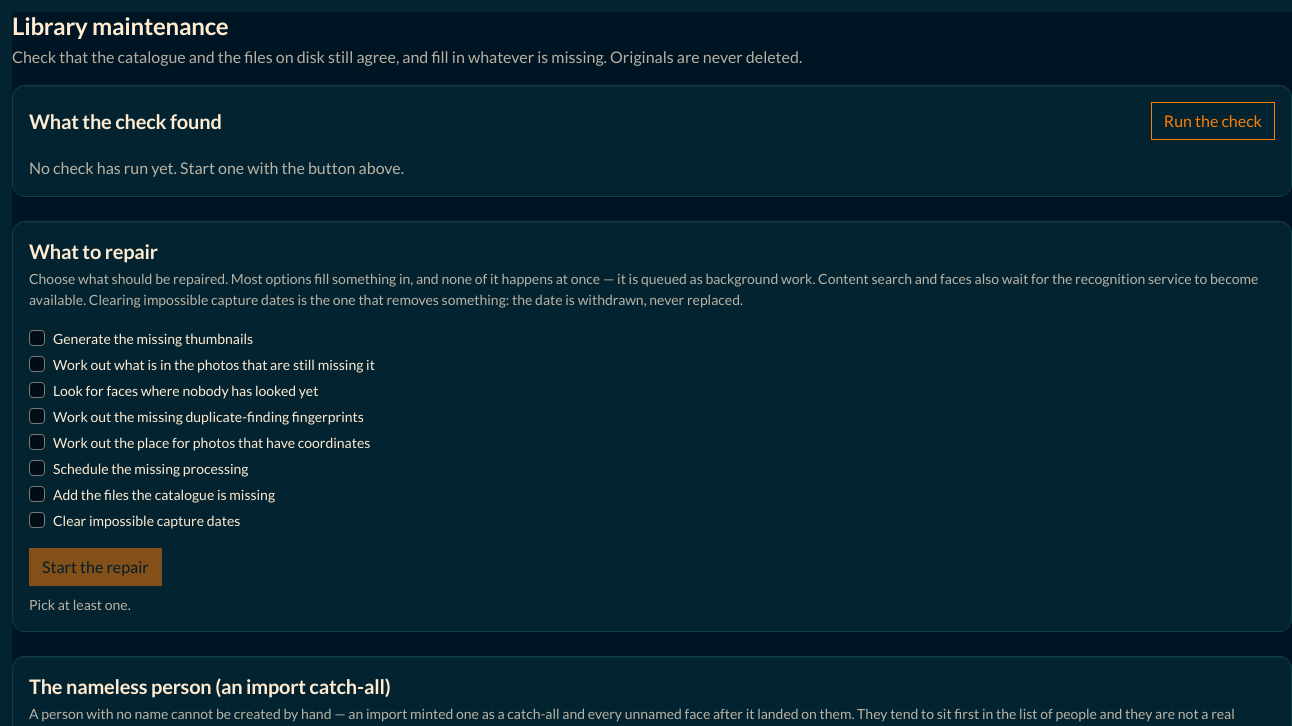
MaintenancePage › names the object store rather than the disk when that is what was scanned
Click the button "Run the check" at (1213, 121), box x1=1151 y1=102 x2=1275 y2=140
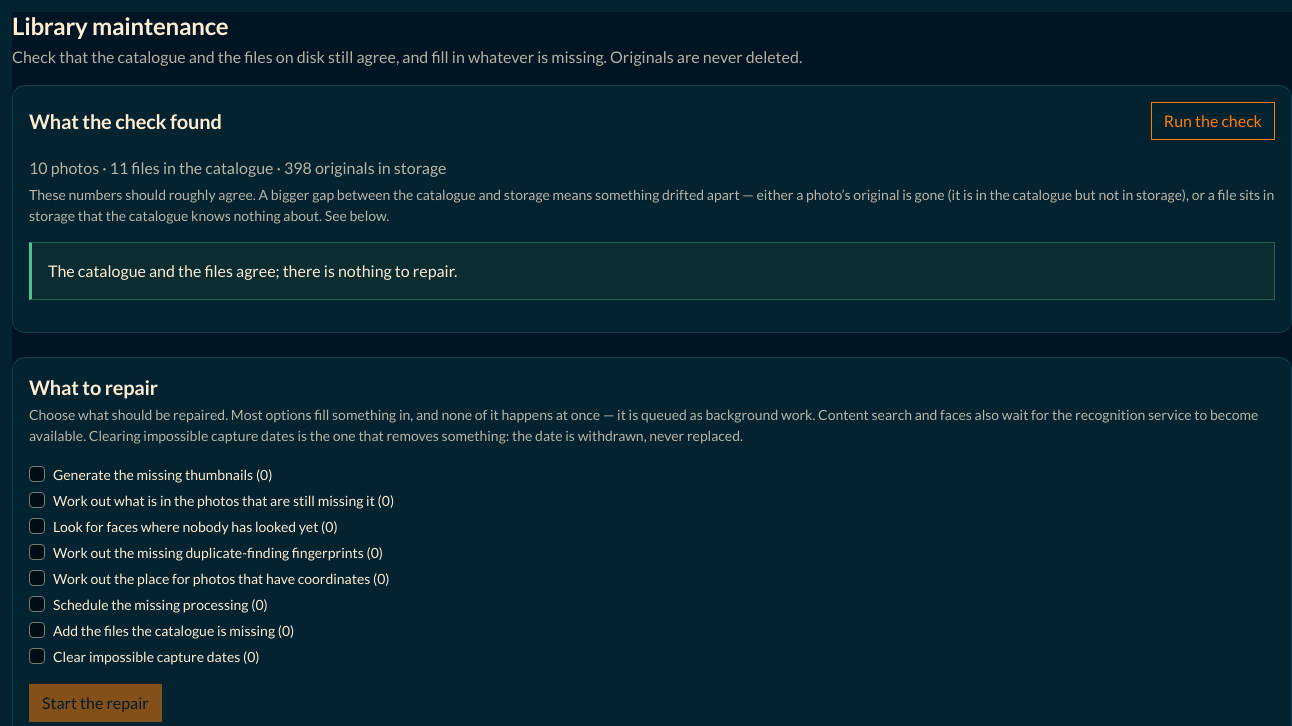
Check: the text "398 originals in storage" is shown, box x1=29 y1=158 x2=446 y2=177
Check: the text "between the catalogue and storage" is shown, box x1=29 y1=186 x2=1274 y2=224
